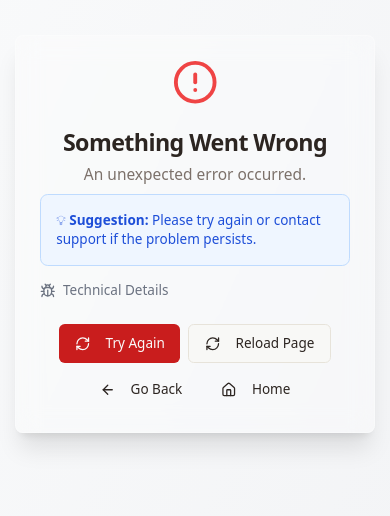
Test: EnhancedErrorBoundary › shows technical details when expanded
The width and height of the screenshot is (390, 516).
Note: Find and click the details summary
Click the heading "Technical Details" at [104, 290], box top-left (40, 282), bottom-right (168, 300)
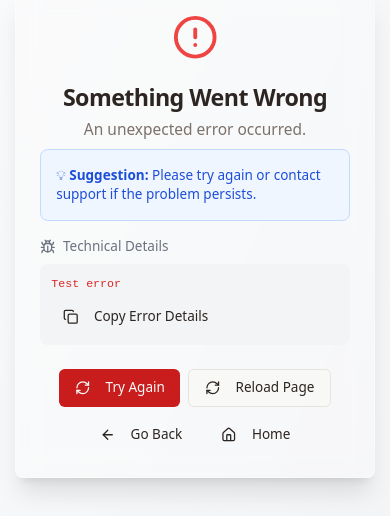
Expected: the text "Test error" is shown, top-left (51, 277), bottom-right (121, 290)
